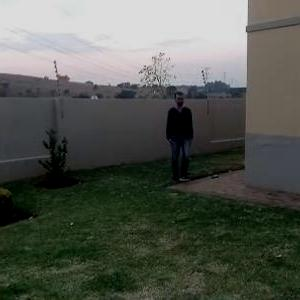follow: (161, 88, 195, 191)
